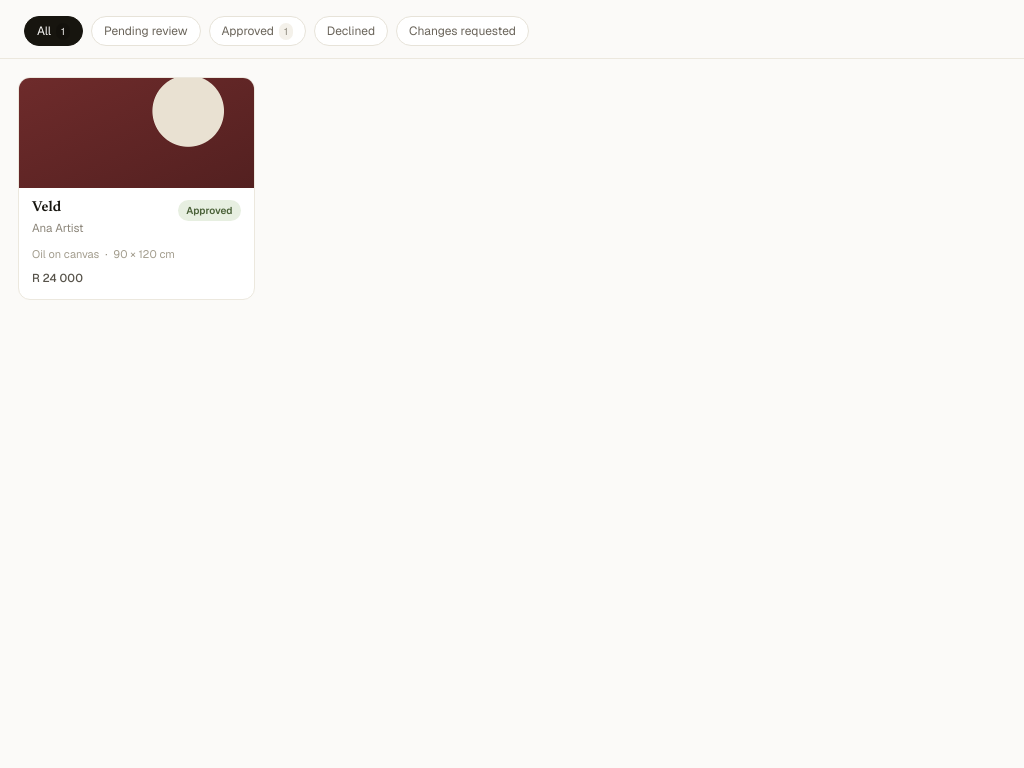
it: SubmissionsPanel accepting into the catalogue › adds an approved work to the catalogue and then shows it's there
The image size is (1024, 768).
Click the text "Veld" at [46, 208], box [32,200,61,215]
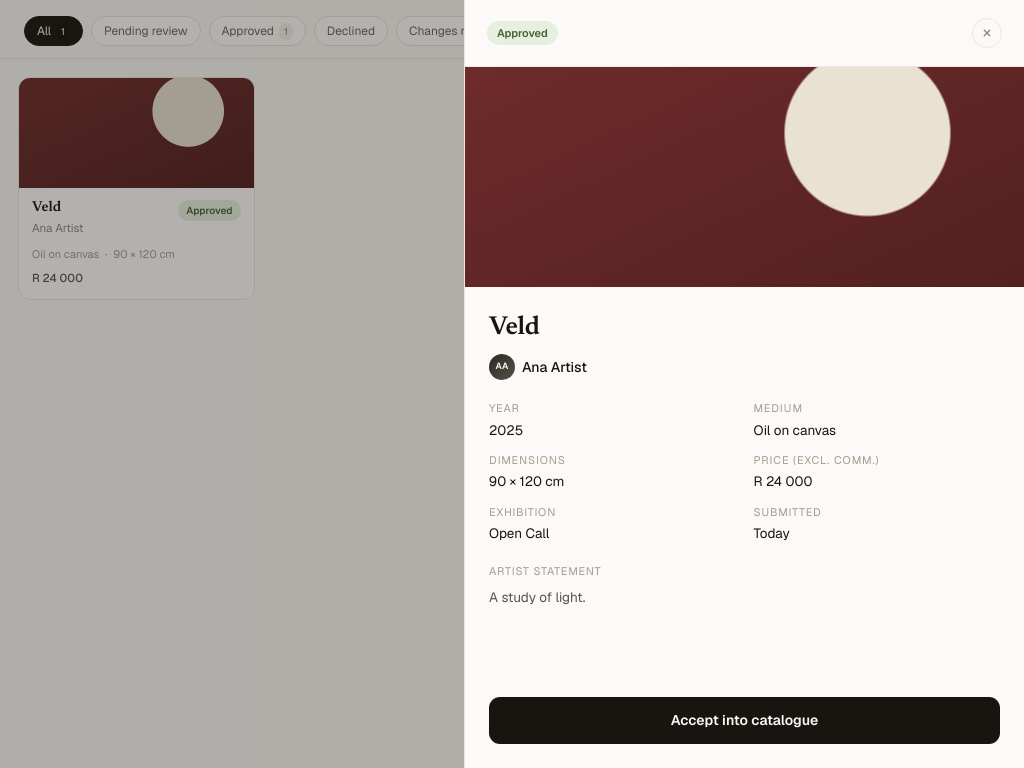
Click the button "Accept into catalogue" at [744, 720], box [489,697,1000,744]
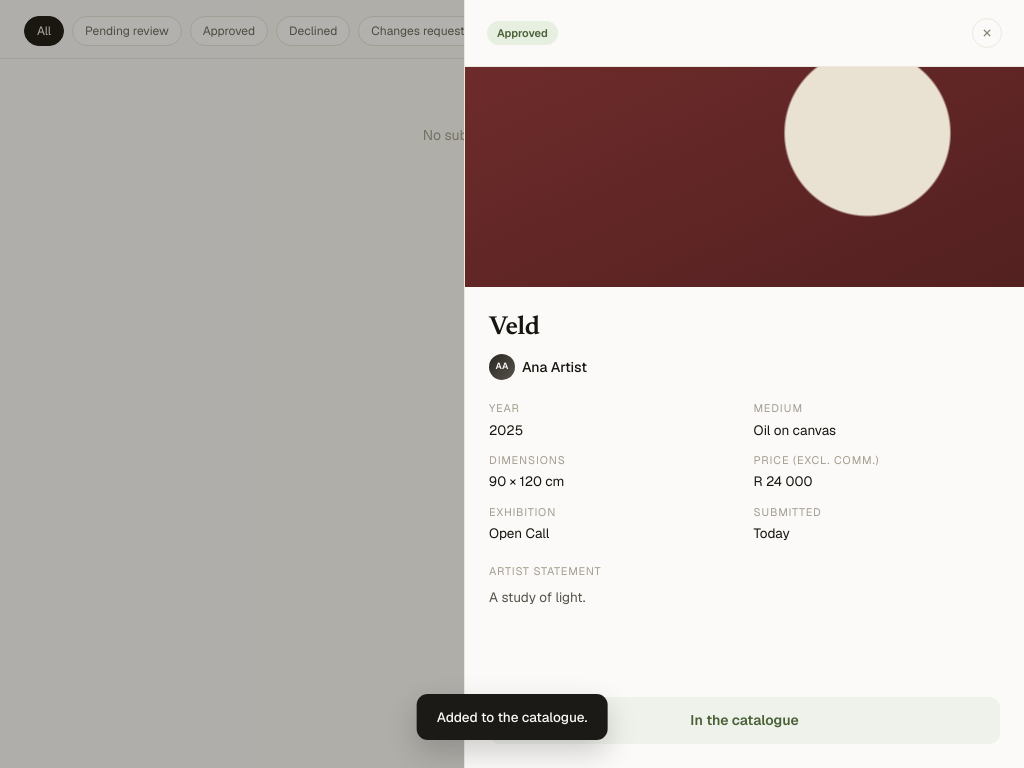
Expected: the text "Added to the catalogue." is shown, [417,694,607,740]
Expected: the button "In the catalogue" is disabled, [489,697,1000,744]
